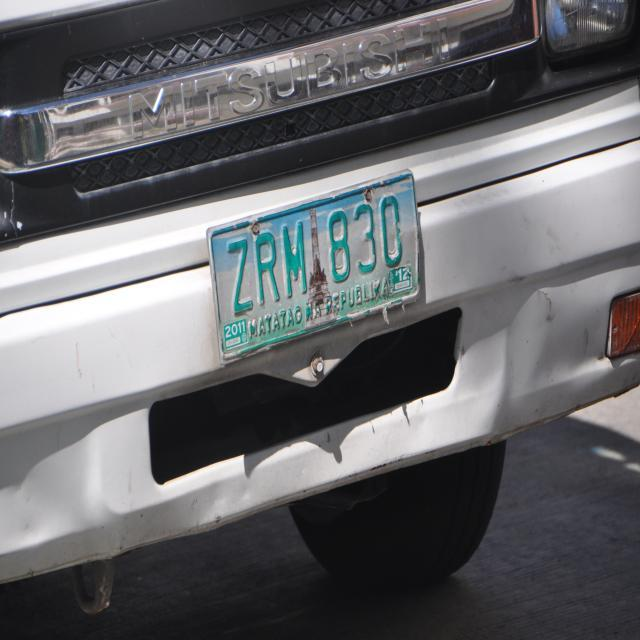LicensePlate: (184, 201, 434, 343)
